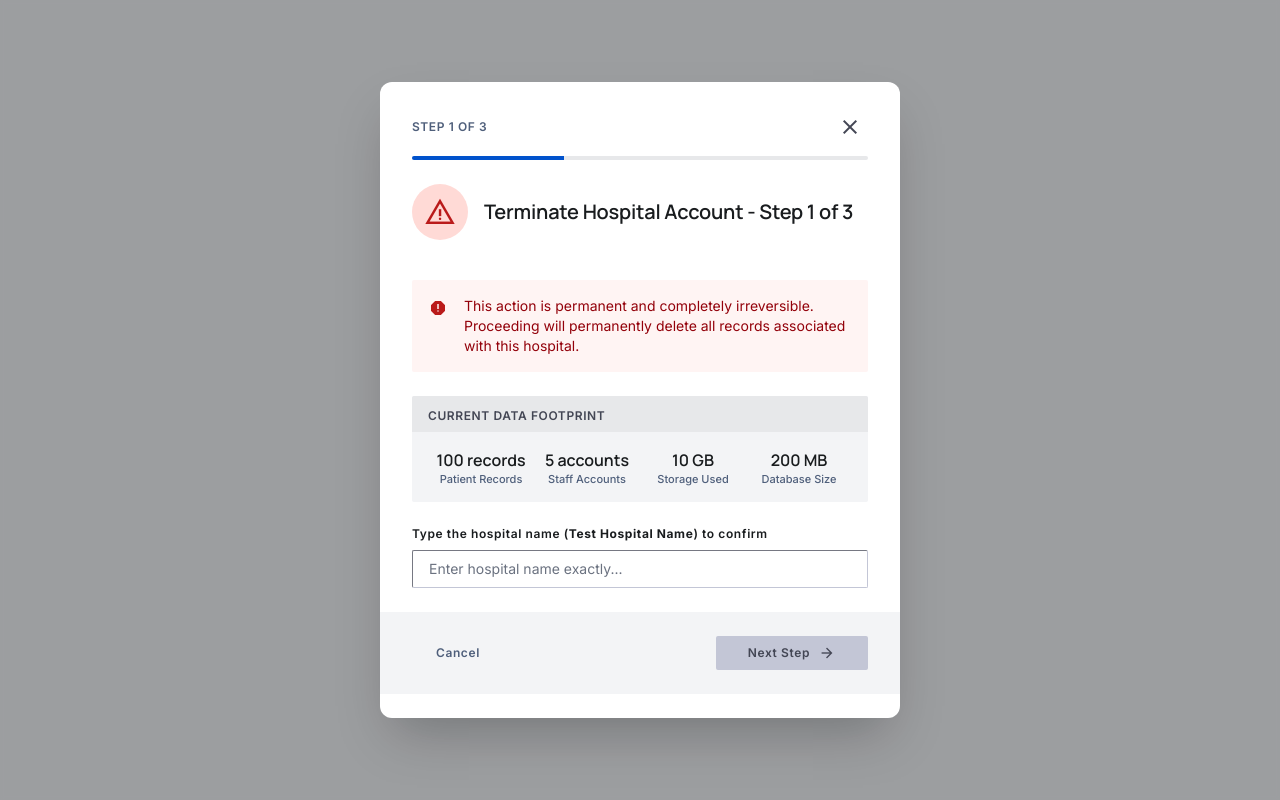
TerminateTenantModal › enables step 1 next button only when tenant name is typed exactly
The width and height of the screenshot is (1280, 800).
# Type incorrect name
Type "Wrong Hospital Name" into the field with placeholder "Enter hospital name exactly..." at [640, 569], box [412,550,868,588]
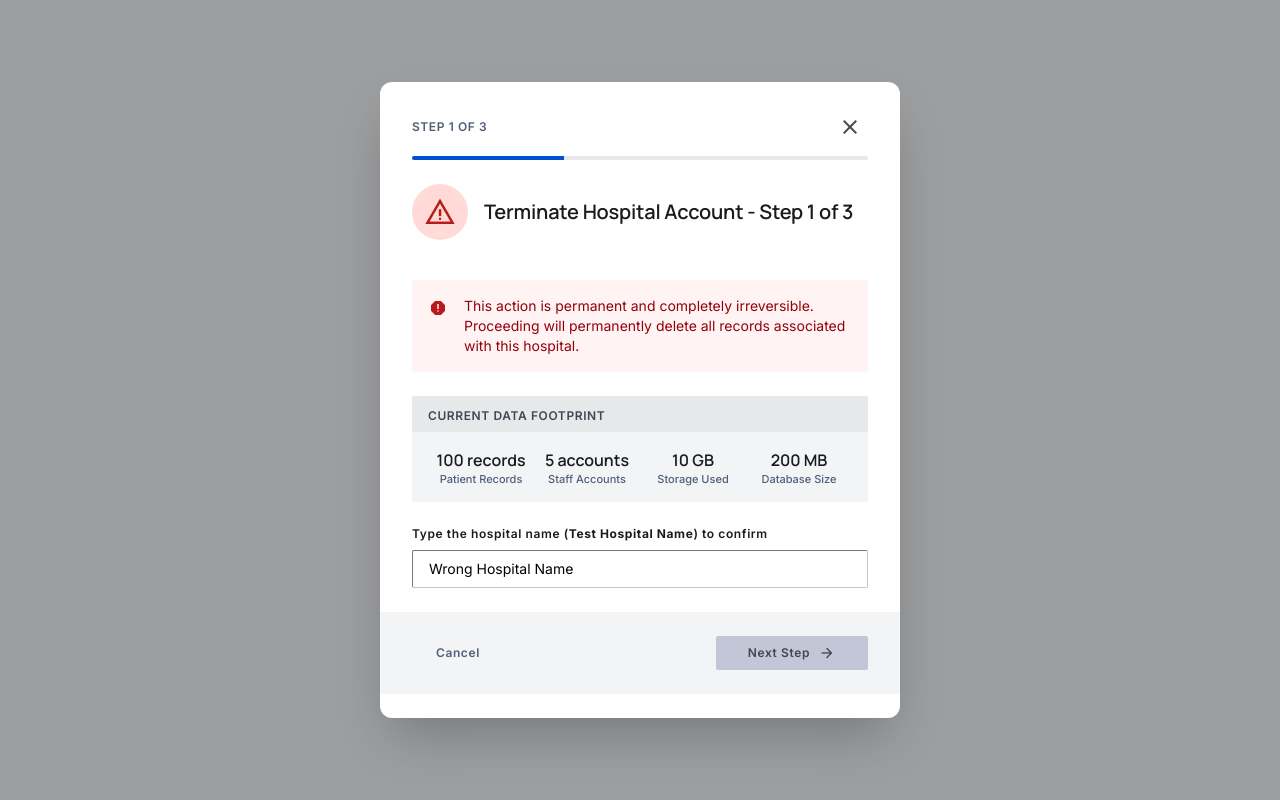
Check: the button "Next Step" is disabled, box [716,636,868,670]
# Type correct name
Replace the text in the field with placeholder "Enter hospital name exactly..." with "Test Hospital Name" at [640, 569], box [412,550,868,588]
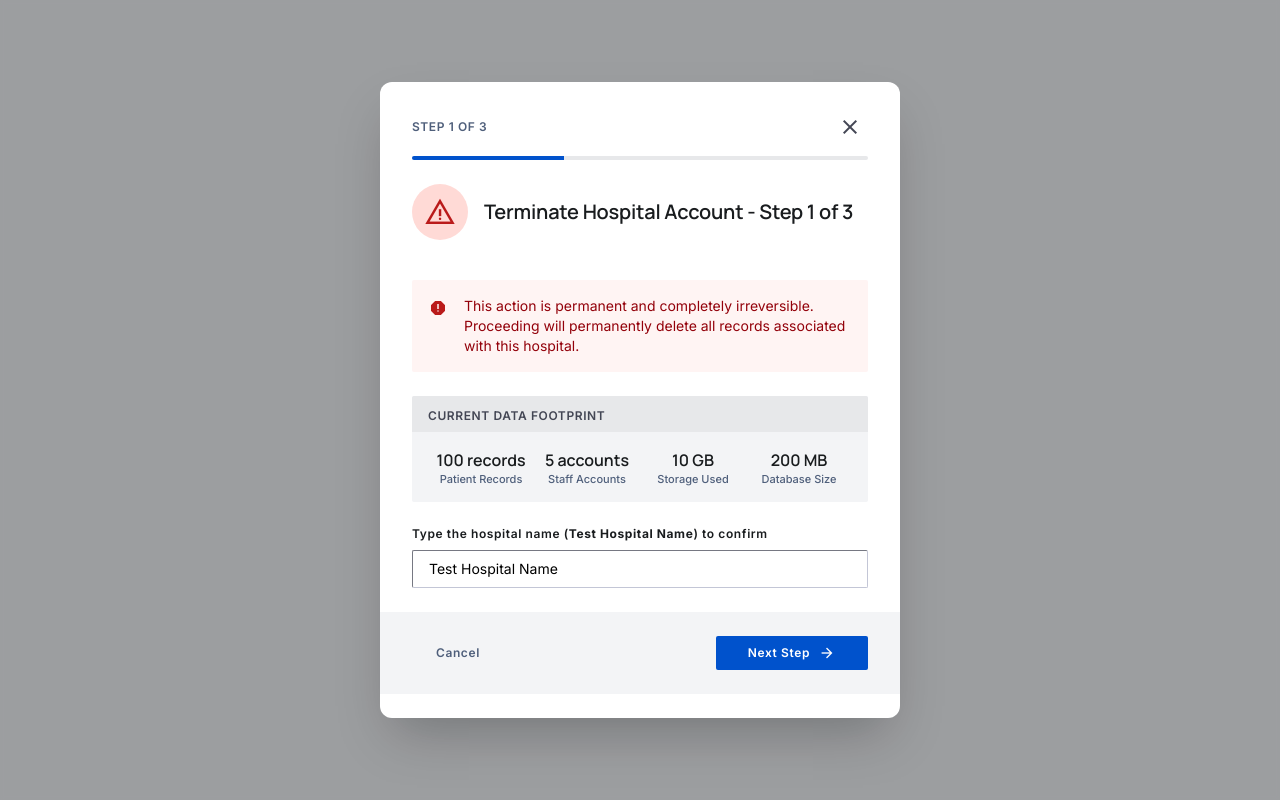
Check: the button "Next Step" is enabled, box [716,636,868,670]
